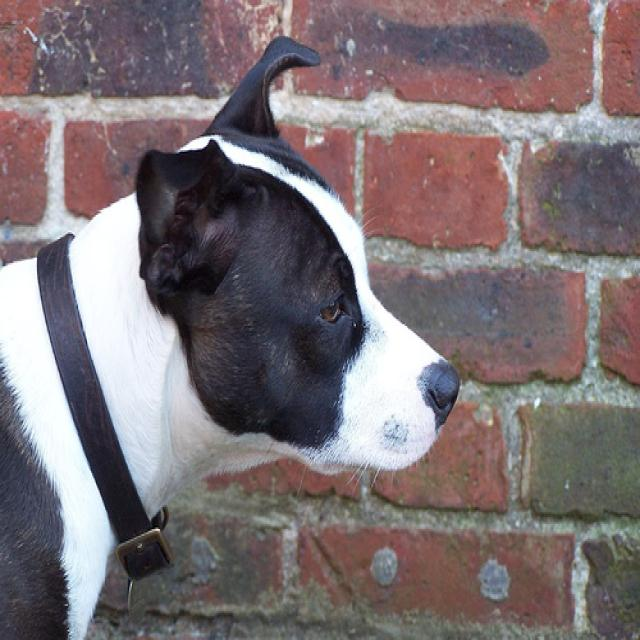dog-staffordshire_bull_terrier: (1, 22, 467, 637)
